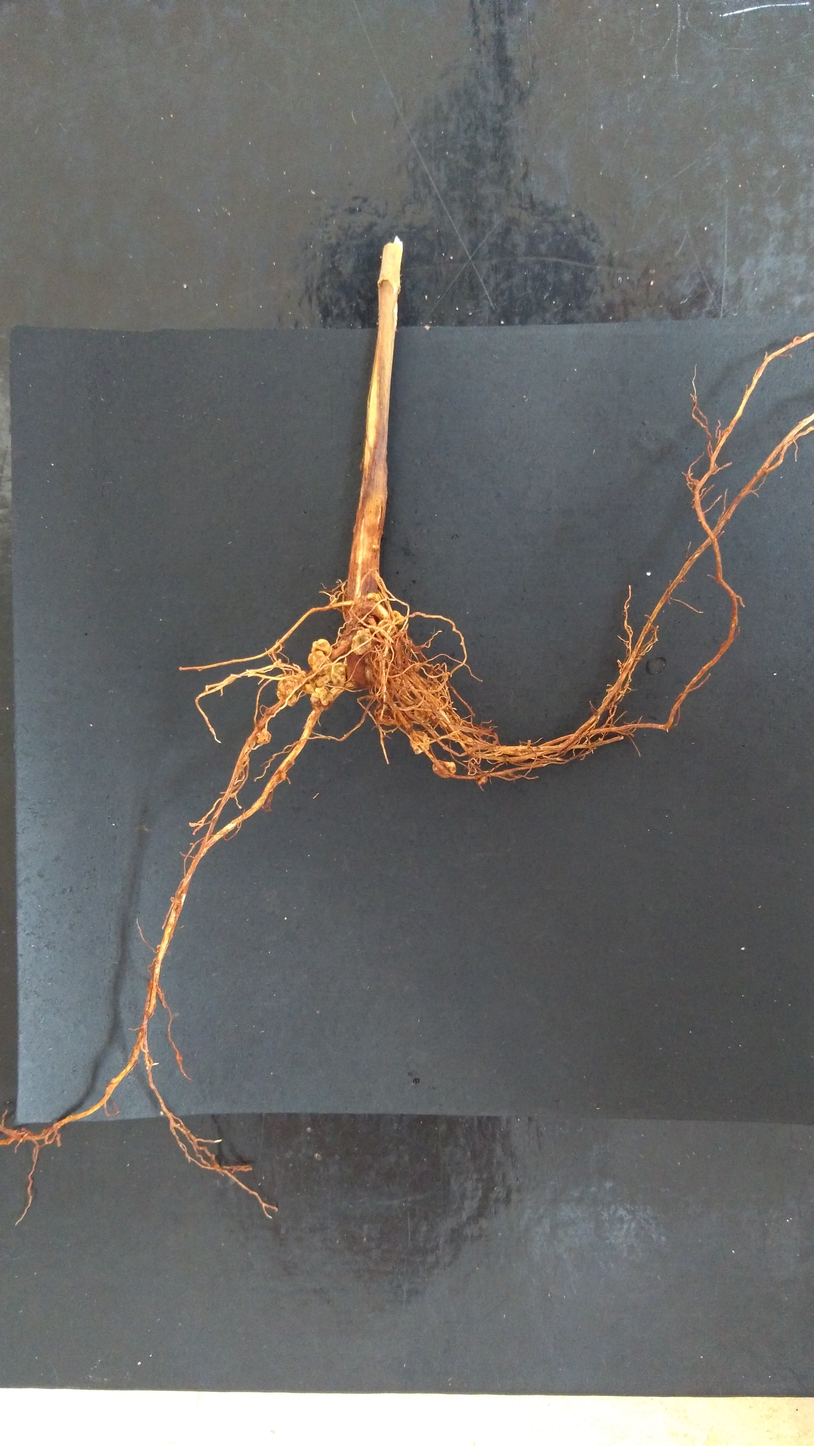nodule: (275, 674, 303, 708), (406, 729, 432, 756), (305, 649, 331, 675), (351, 627, 373, 656), (431, 758, 457, 780), (309, 686, 334, 708), (295, 669, 315, 695), (375, 618, 397, 641), (308, 638, 333, 656), (329, 662, 347, 687), (253, 728, 274, 746), (390, 609, 406, 627), (366, 593, 384, 602), (477, 774, 489, 786)
